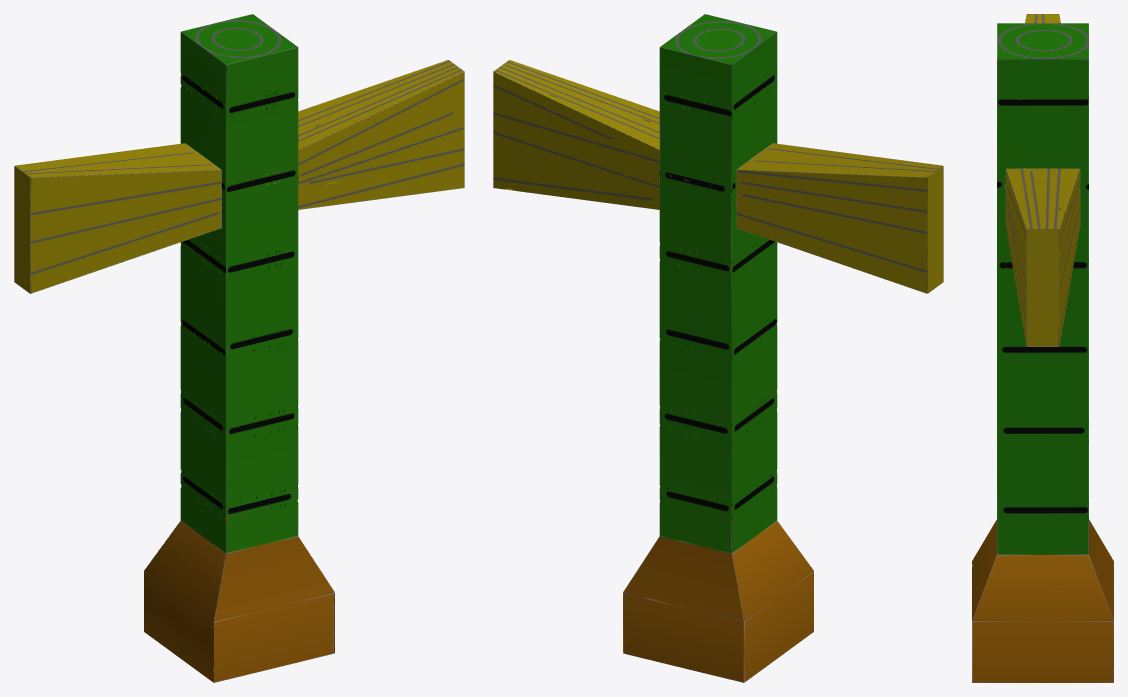
File: kakasi.fbx
3 views of the same model, side by side, from view 1: azimuth 30°, elevation 25°; view 2: azimuth 150°, elevation 25°; view 3: azimuth 270°, elevation 25° (orthographic).
Visible parts, largest first — view 1: pCube1; view 2: pCube1; view 3: pCube1.
Boxes of the visible parts, <box> form: pCube1: <box>14,14,464,682</box>; pCube1: <box>493,14,943,682</box>; pCube1: <box>972,14,1113,682</box>.
Bounding box in the file's own units: 3.58 × 4.75 × 1.
